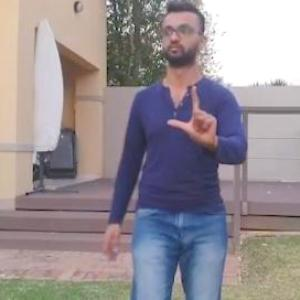land_hand: (161, 80, 223, 152)
